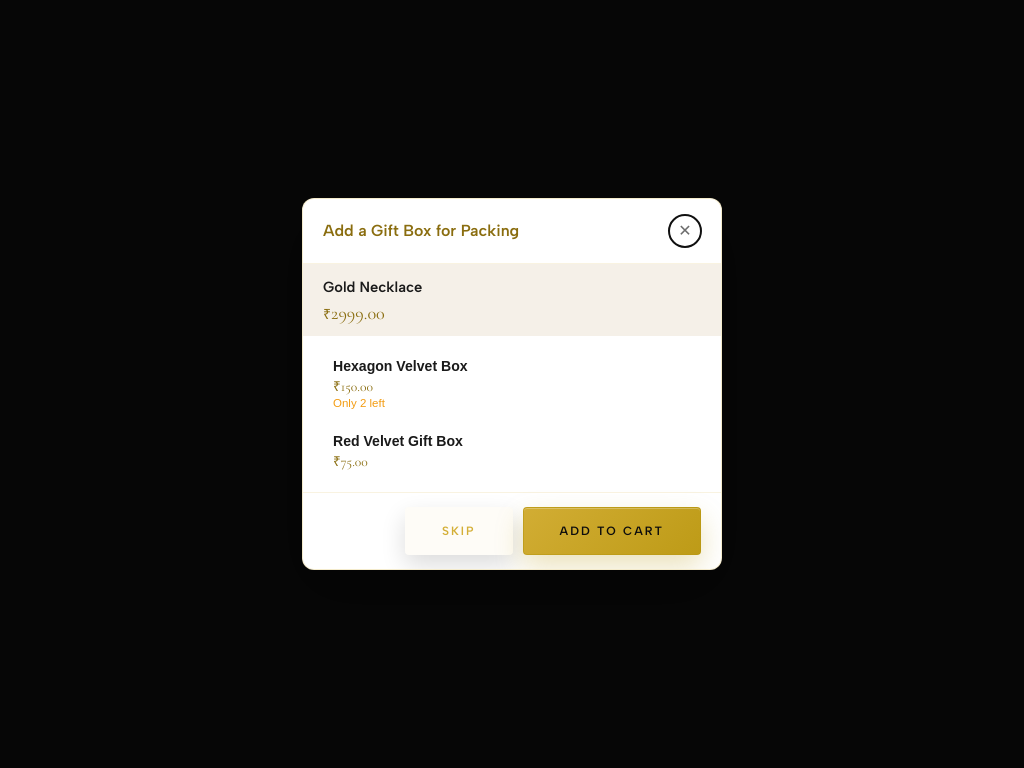
Test case: GiftBoxModal › allows deselecting a gift box
Note: Select then deselect
Step 1. Click the text "Hexagon Velvet Box" → (400, 366), box left=333, top=358, right=468, bottom=374
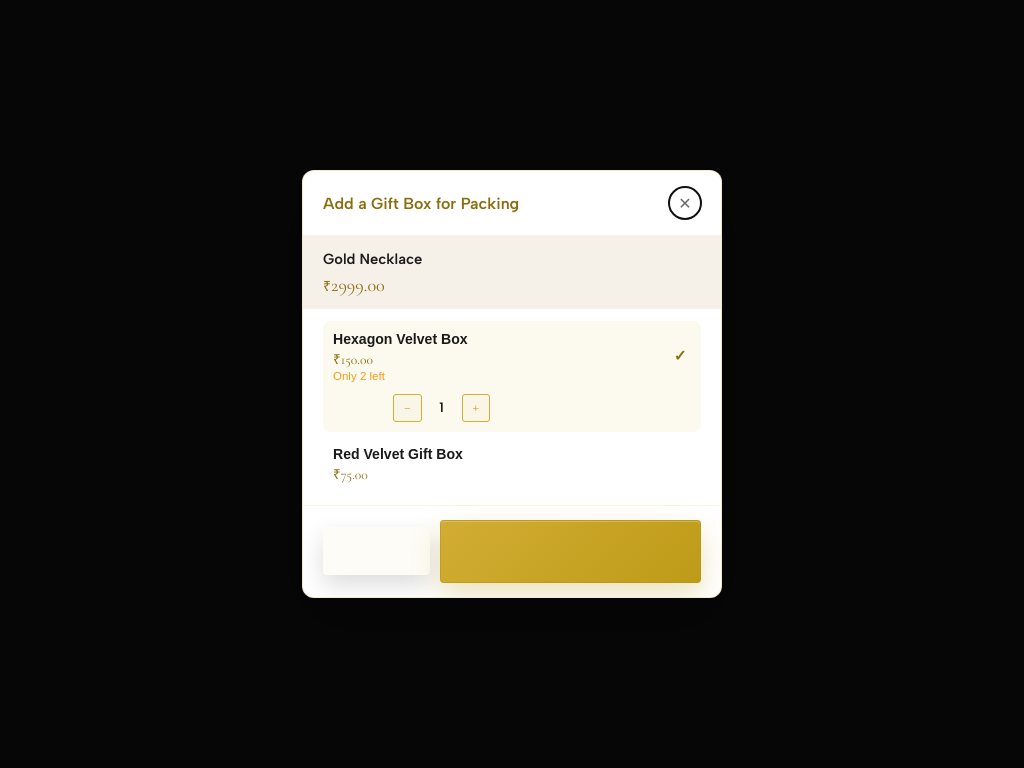
Step 2. Click the text "Hexagon Velvet Box" → (400, 338), box left=333, top=330, right=468, bottom=346
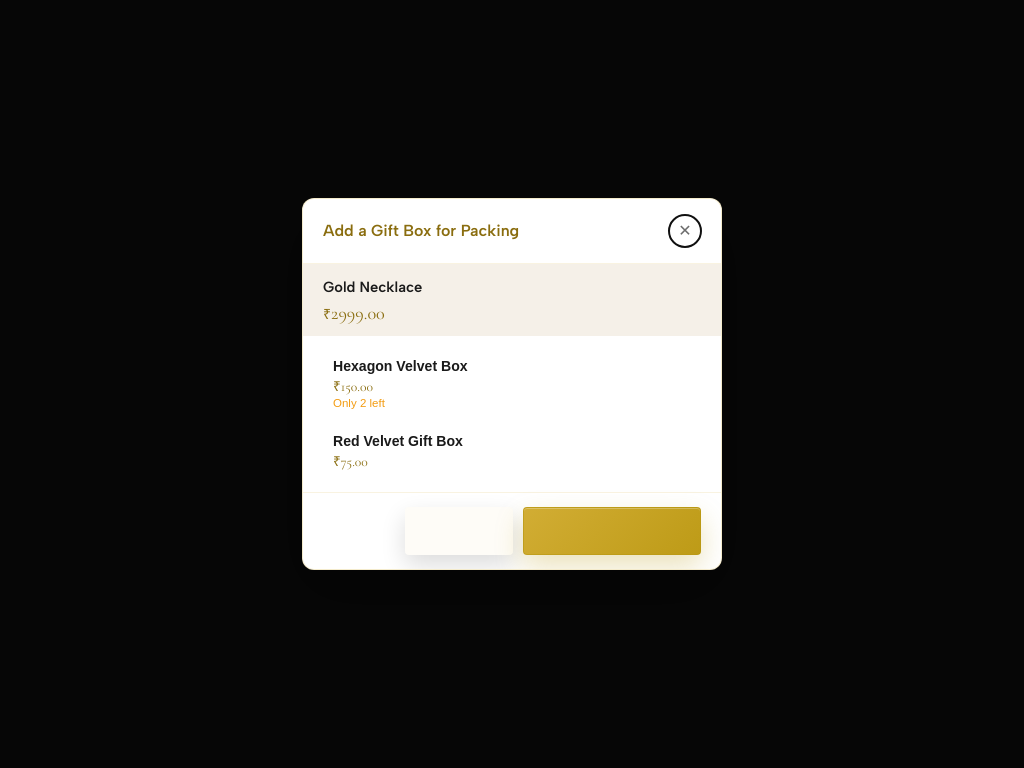
Expected: the button "✓" is gone
